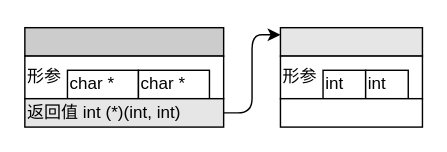
Image size: 447x152. Some labels were removed from this diagram. The centre of each missing label's shape, as x and y in pixels:
"函数f" goes at point (123, 41).
"函数x" goes at point (350, 41).
"返回值 int" goes at point (350, 112).
